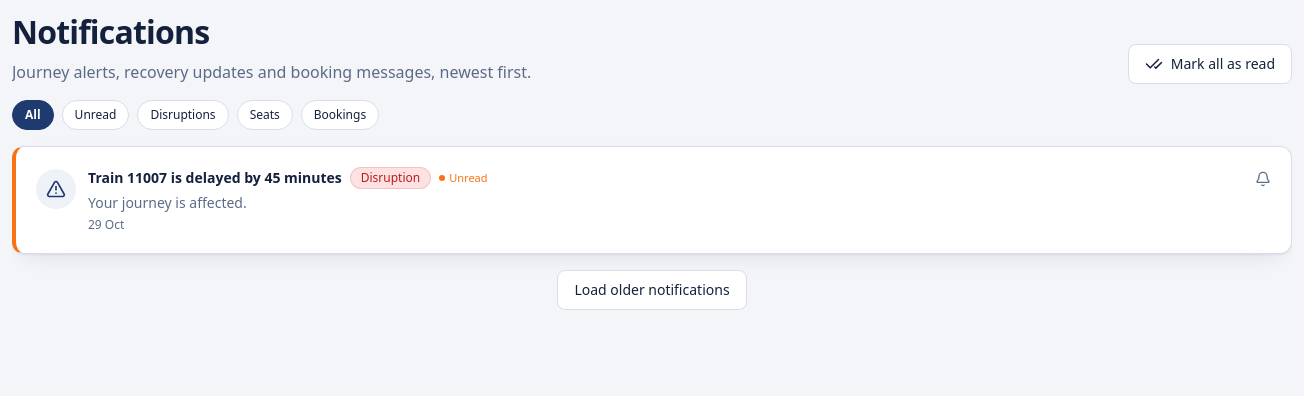
NotificationsPage › loads the next page of older notifications
Check: the text "Train 11007 is delayed by 45 minutes" is shown, box [88, 168, 342, 188]
Click the button "Load older notifications" at (652, 290), box [557, 270, 747, 310]
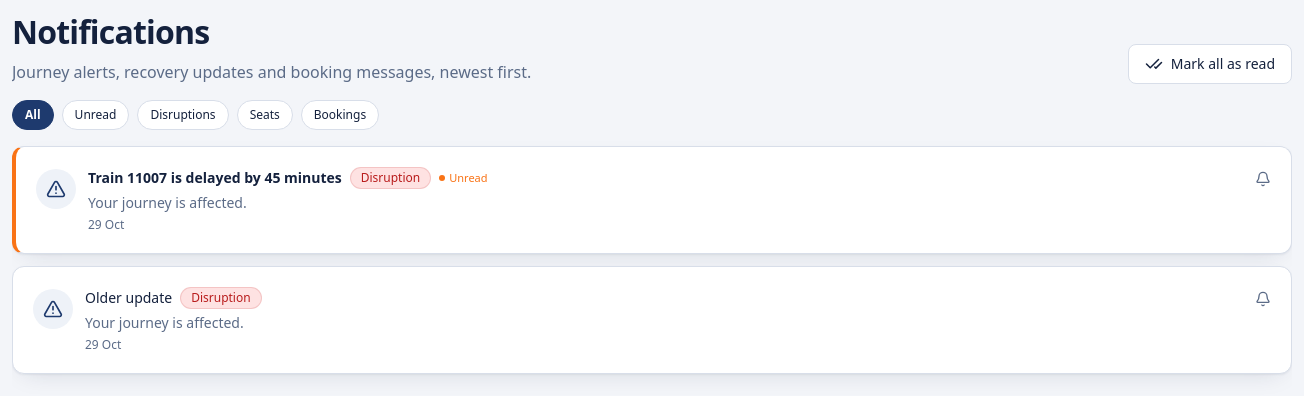
Check: the text "Older update" is shown, box [85, 288, 172, 308]
